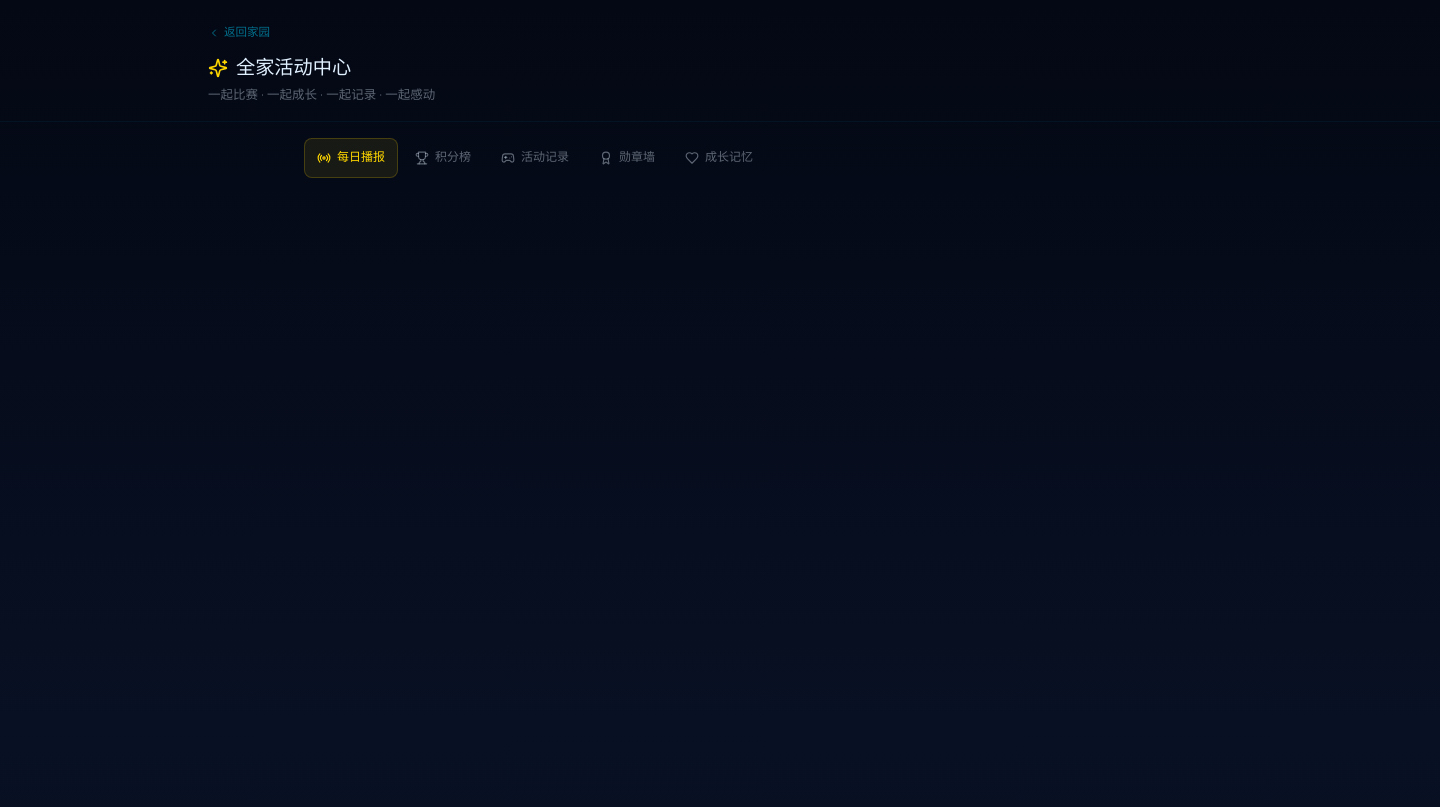
Scenario: ai-family/FamilyActivityCenter › 积分榜 › 应渲染领奖台与完整排行（按贡献降序）
This screenshot has width=1440, height=807.
Click the button "积分榜". click: (443, 158)
box: [402,138,484,178]
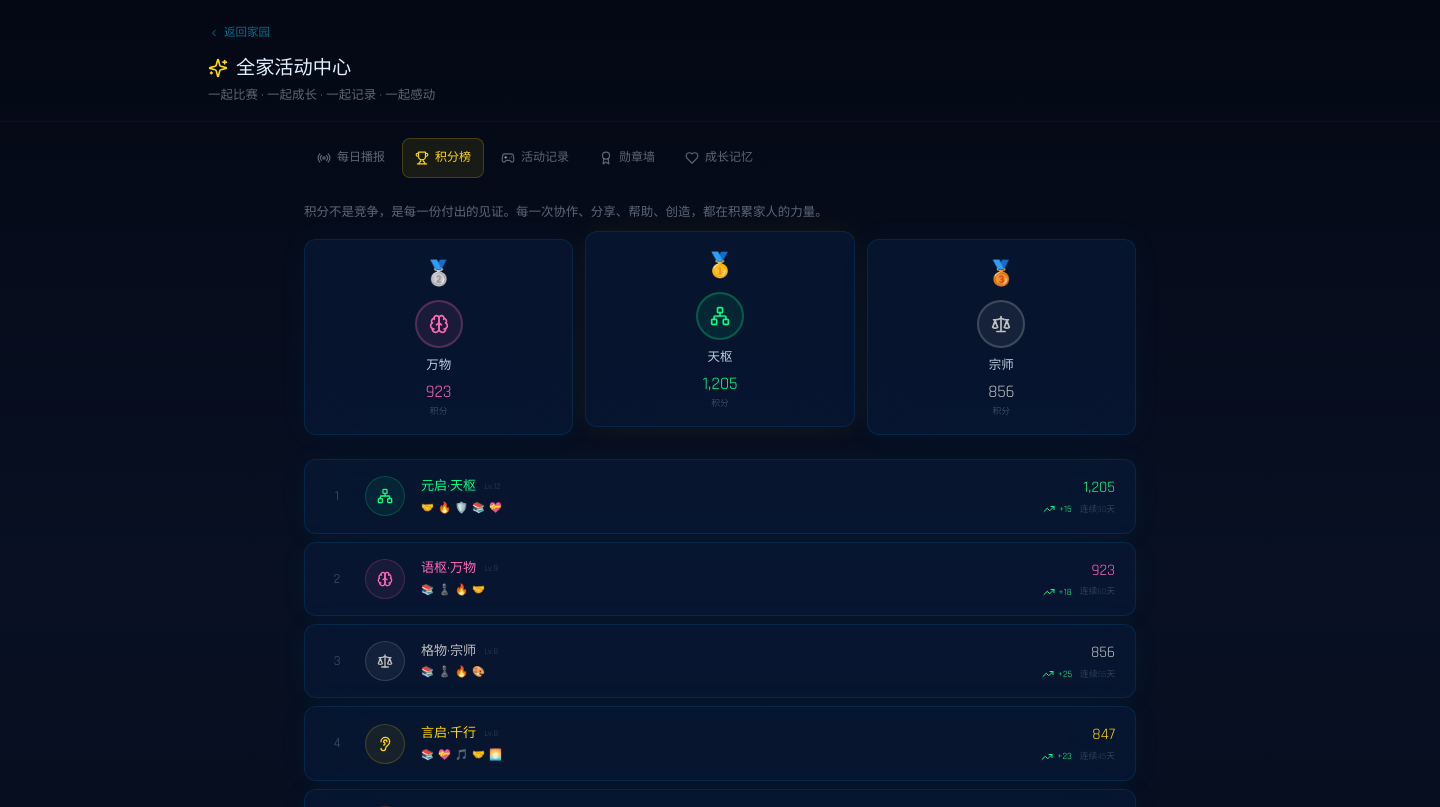
Result: the text "积分不是竞争，是每一份付出的见证。每一次协作、分享、帮助、创造，都在积累家人的力量。" is shown at [304,204,828,220]
Result: the text "积分" is shown 3 times at [430,406,448,417]; [711,398,729,409]; [992,406,1010,417]
Result: the text "1,205" is shown 2 times at [702,373,737,395]; [1083,477,1115,498]
